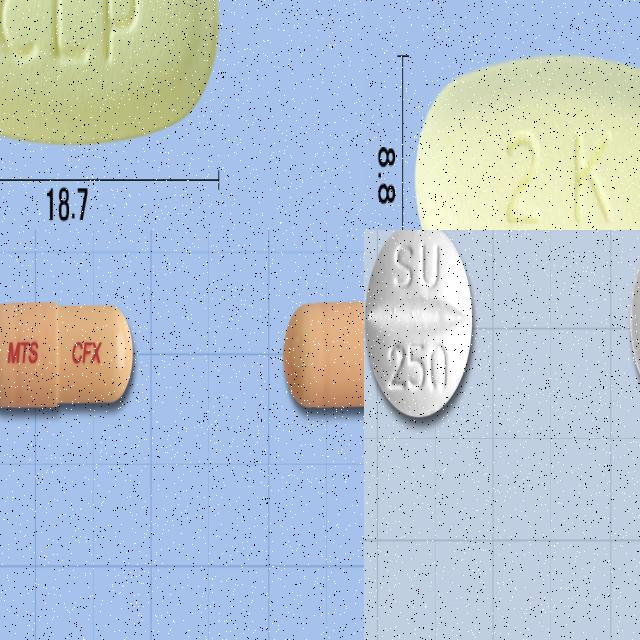Cefixime Cap- Mothers: (0, 294, 137, 420), (281, 295, 364, 412)
Celltrion Clarithromycin: (0, 0, 220, 149)
Ciptec: (364, 230, 478, 423)
Clithocin: (413, 53, 640, 230)
